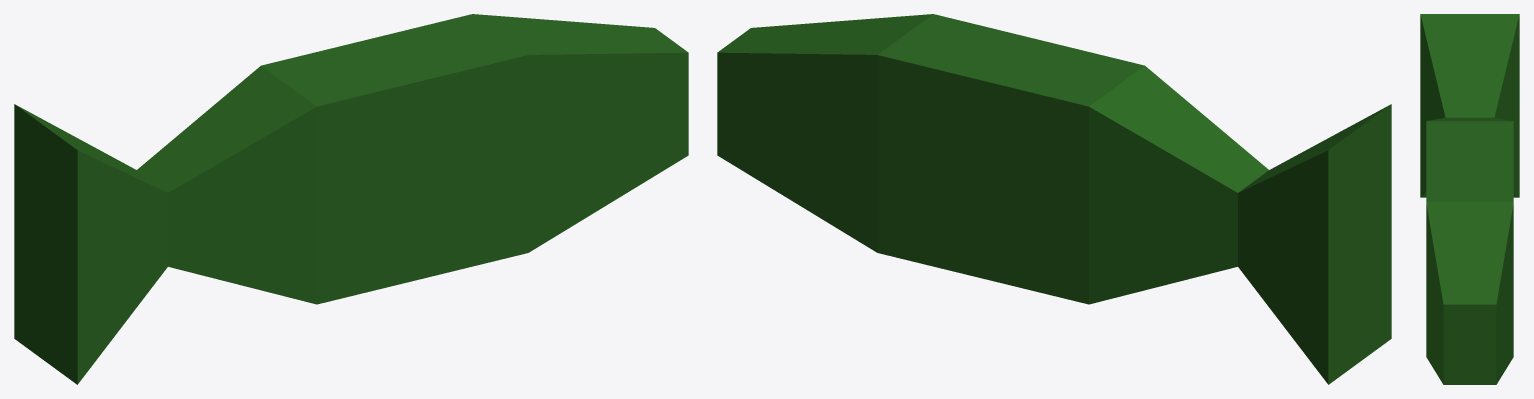
File: fish_basic.fbx
3 renders of one model, left to right at view 1: azimuth 30°, elevation 25°; view 2: azimuth 150°, elevation 25°; view 3: azimuth 270°, elevation 25°, orthographic. The views are drawn at different scales.
Parts seen in each view (by area): view 1: Cube; view 2: Cube; view 3: Cube.
Part boxes in pixels (x1=…): Cube: x1=14, y1=14, x2=688, y2=384; Cube: x1=717, y1=14, x2=1391, y2=384; Cube: x1=1420, y1=14, x2=1519, y2=384.
Bounding box in the file's own units: 662 × 237 × 116.
